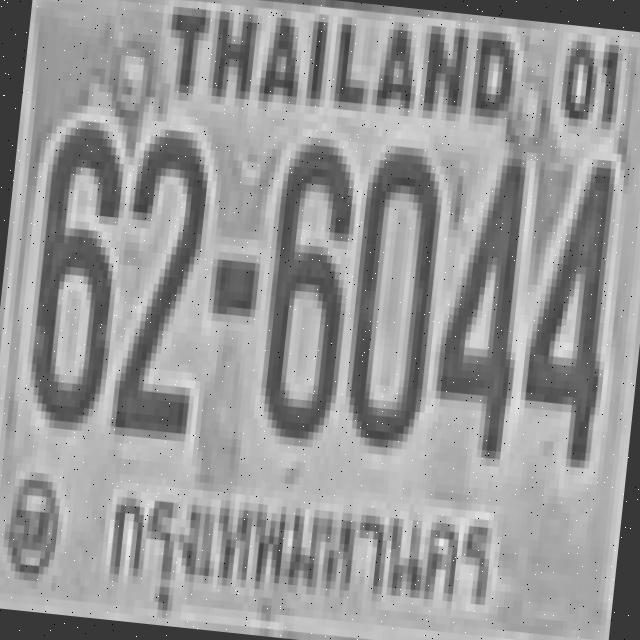0: (338, 136, 444, 442)
2: (108, 119, 215, 434)
4: (514, 146, 621, 461), (426, 144, 532, 452)
6: (252, 134, 358, 440), (22, 118, 128, 424)
Bangkok: (94, 470, 503, 628)
